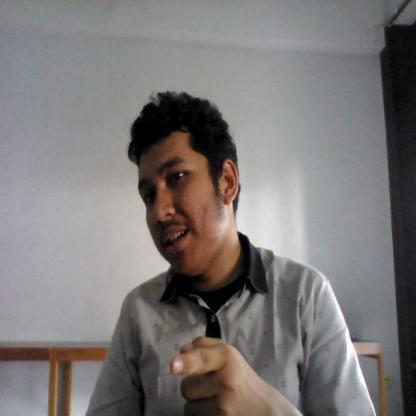Kamu: (161, 326, 263, 416)
